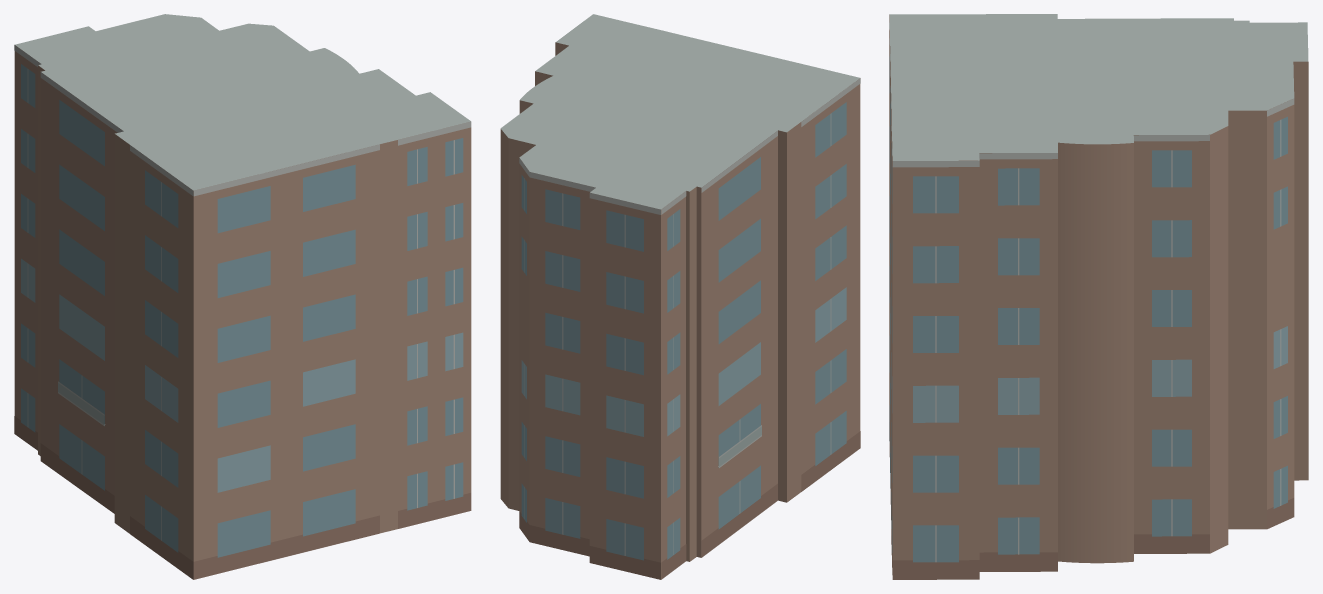
Rendered from survey-upis-32931988.glb.
The picture shows the model from 3 angles, left to right: view 1: azimuth 30°, elevation 25°; view 2: azimuth 150°, elevation 25°; view 3: azimuth 270°, elevation 25°; orthographic projection. The views are drawn at different scales.
Parts seen in each view (by area): view 1: survey-upis-32931988.tmp; view 2: survey-upis-32931988.tmp; view 3: survey-upis-32931988.tmp.
Boxes of the visible parts, x1,y1,x2,y2 form: survey-upis-32931988.tmp: [14, 14, 471, 579]; survey-upis-32931988.tmp: [500, 14, 860, 579]; survey-upis-32931988.tmp: [889, 14, 1308, 579].
Bounding box in the file's own units: 12.17 × 16.15 × 14.65.
